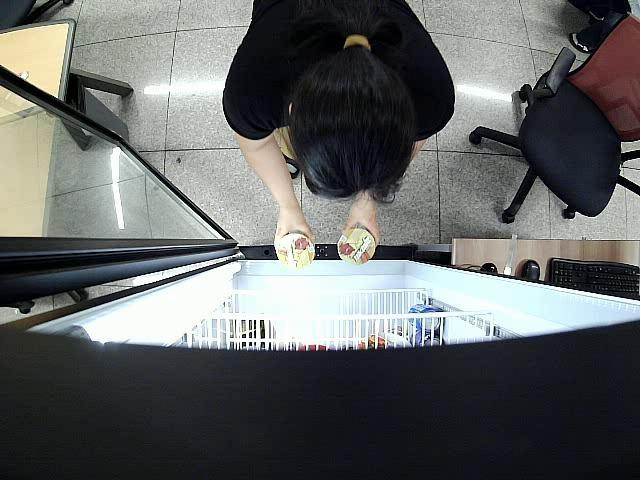04_chapagetti_S: (276, 232, 316, 272), (339, 228, 376, 266)
